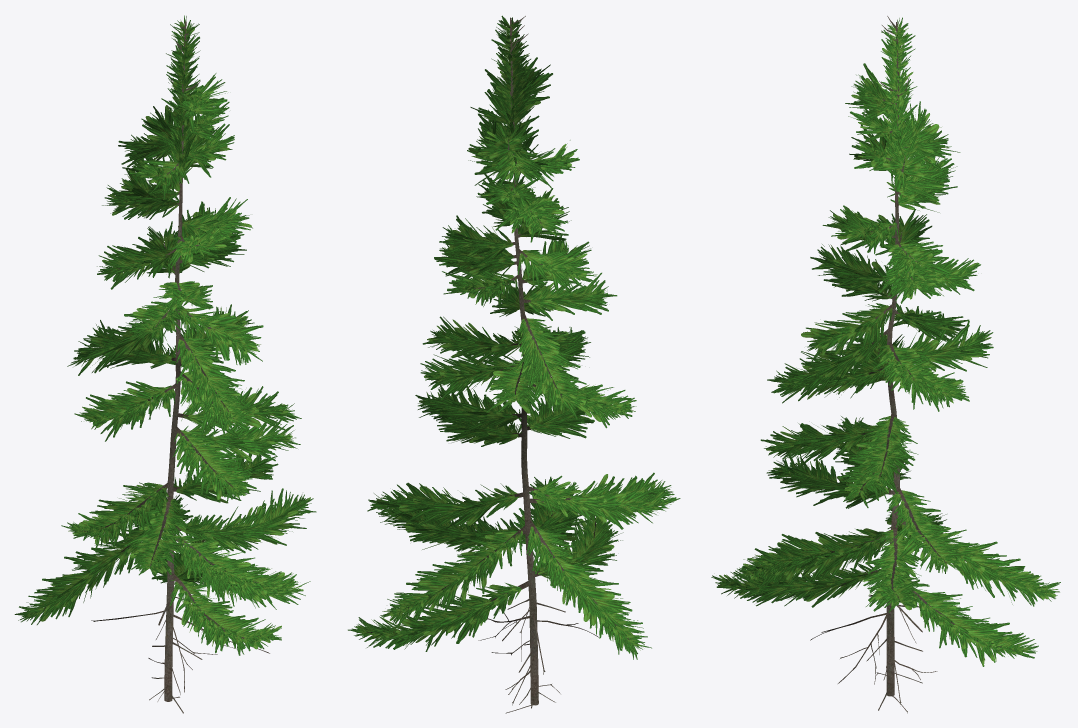
Rendered from fir_tree_b.glb.
3 views of the same model, side by side, from view 1: azimuth 30°, elevation 25°; view 2: azimuth 150°, elevation 25°; view 3: azimuth 270°, elevation 25° (orthographic).
Visible parts, largest first — view 1: fir_tree_b; view 2: fir_tree_b; view 3: fir_tree_b.
Part boxes in pixels (x1=…): fir_tree_b: x1=14, y1=15, x2=316, y2=713; fir_tree_b: x1=348, y1=15, x2=680, y2=713; fir_tree_b: x1=711, y1=16, x2=1060, y2=713.
Bounding box in the file's own units: 3.06 × 7.13 × 3.27.
3 materials, 3 textured.
